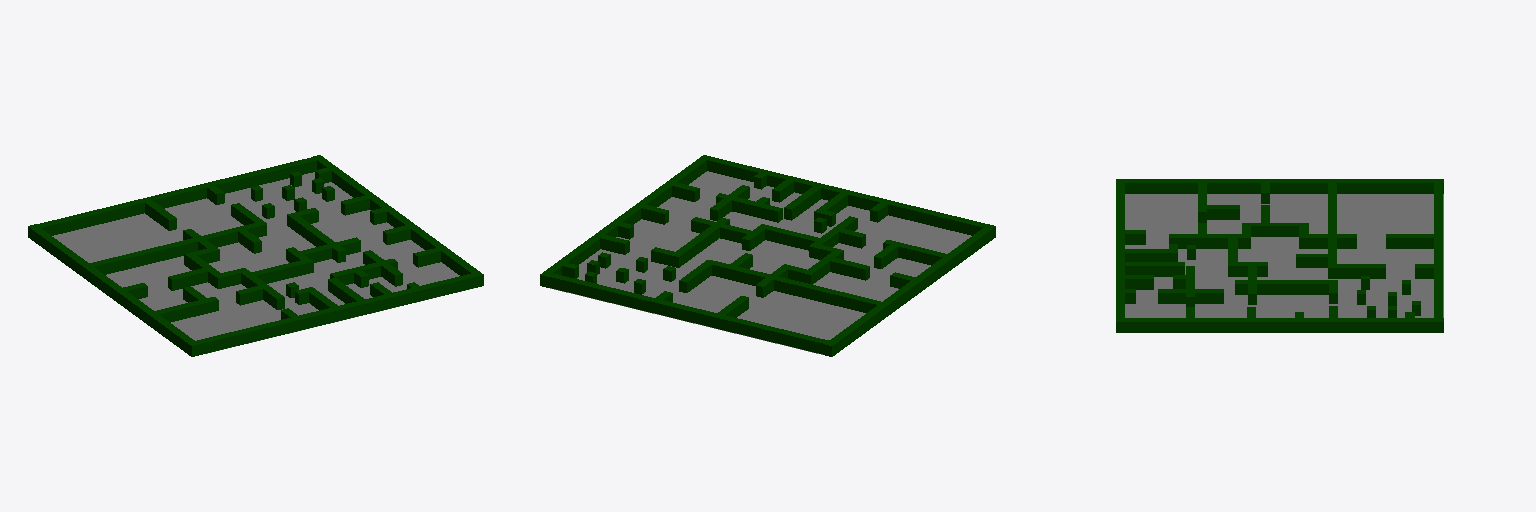
Rendered from level1.obj.
3 views of the same model, side by side, from view 1: azimuth 30°, elevation 25°; view 2: azimuth 150°, elevation 25°; view 3: azimuth 270°, elevation 25° (orthographic).
Visible parts, largest first — view 1: level1; view 2: level1; view 3: level1.
Boxes of the visible parts, x1=… form: level1: x1=28, y1=155, x2=483, y2=356; level1: x1=540, y1=155, x2=995, y2=356; level1: x1=1116, y1=179, x2=1443, y2=332.
Bounding box in the file's own units: 51.38 × 1.85 × 50.